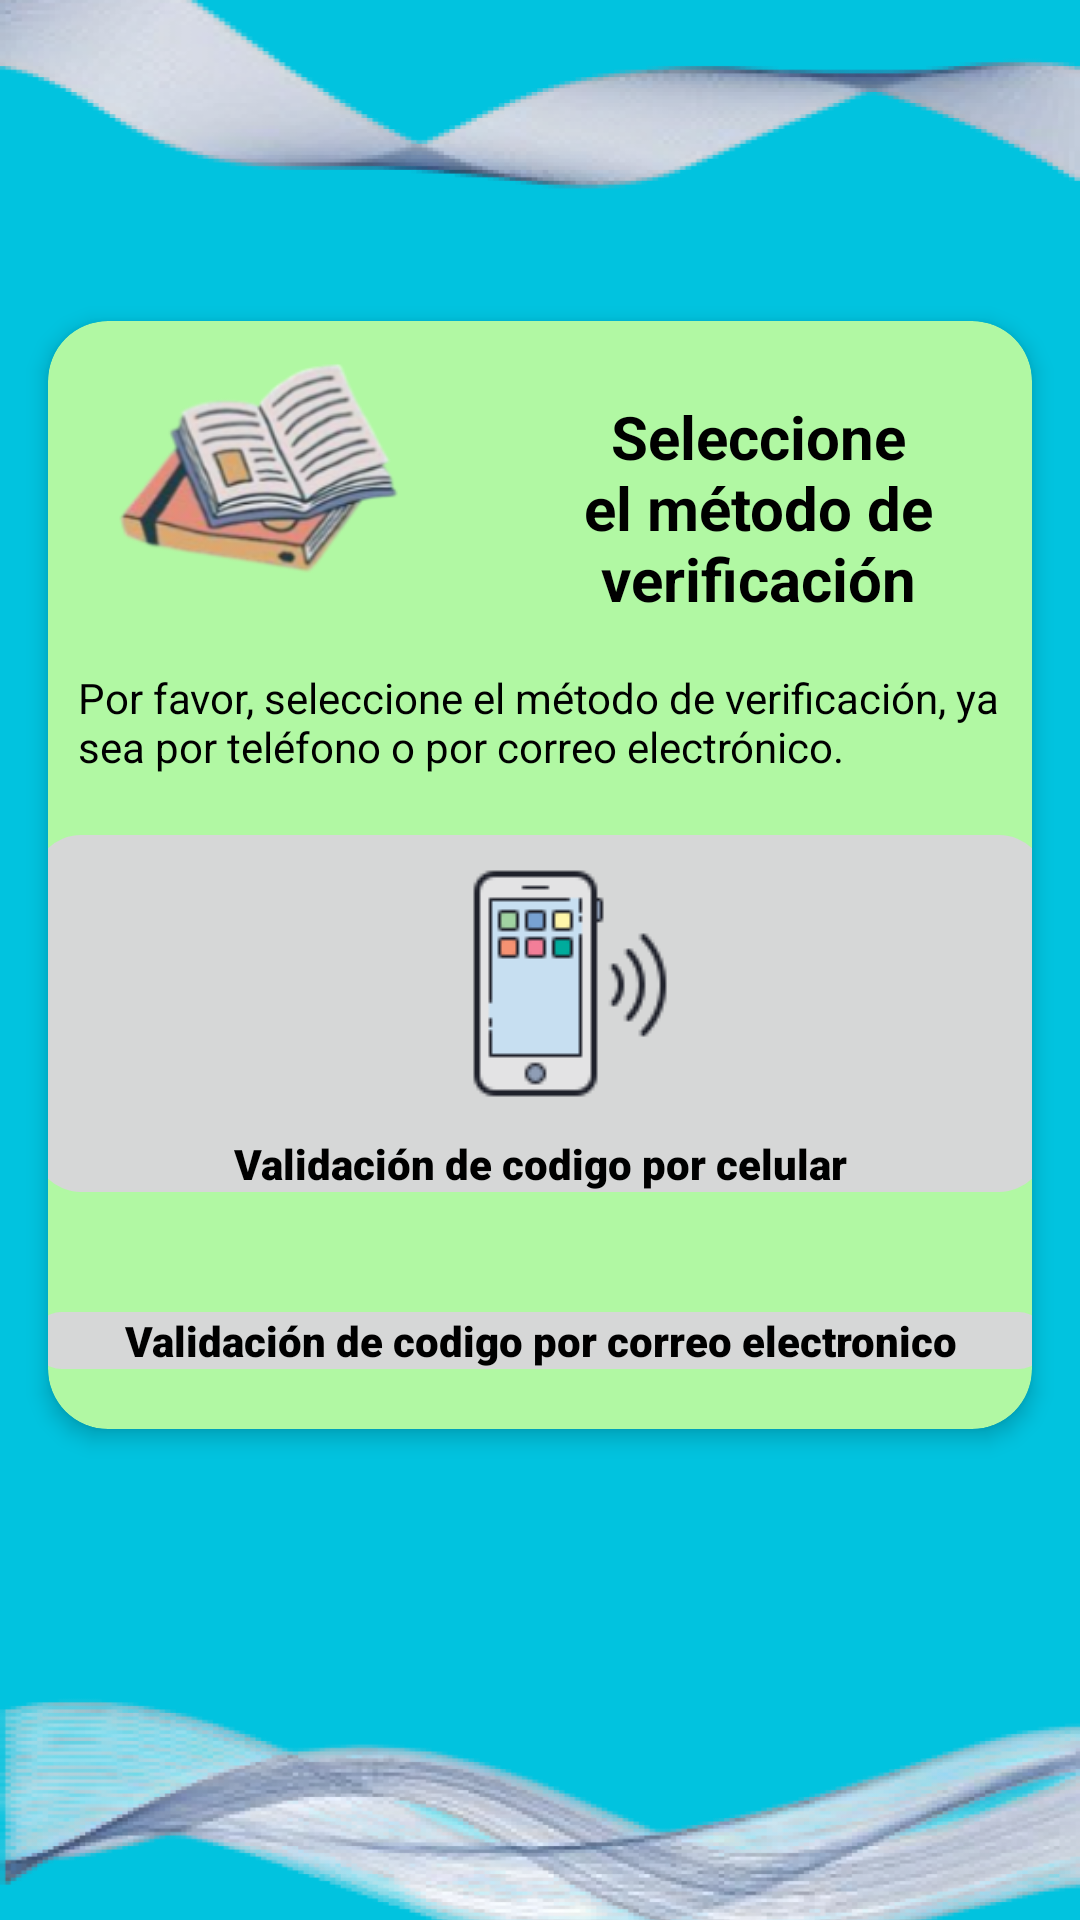

Screen size 1080w x 1920h. Icon name, then its box in pixels as (x1, y1, x2, y2):
libro: (121, 365, 397, 571)
